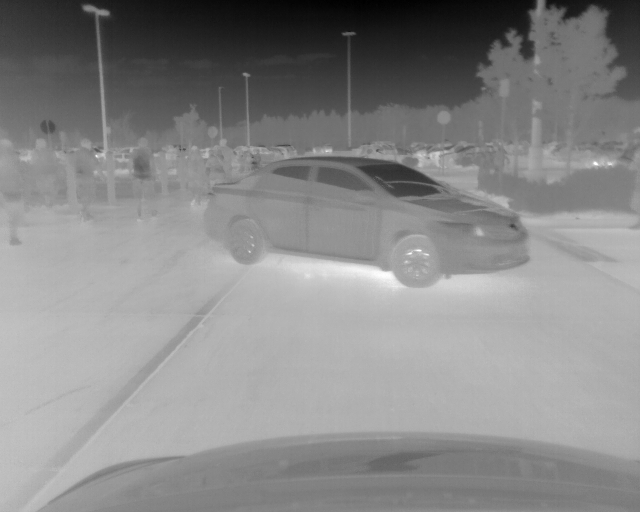car: (208, 156, 530, 289), (441, 145, 504, 165), (312, 144, 333, 152)
people: (70, 135, 103, 223), (1, 137, 26, 245), (130, 137, 159, 221), (30, 138, 60, 210), (184, 142, 201, 206), (207, 147, 224, 194), (216, 138, 235, 180), (494, 148, 511, 174), (236, 146, 250, 175), (478, 152, 492, 176), (251, 146, 262, 171)
